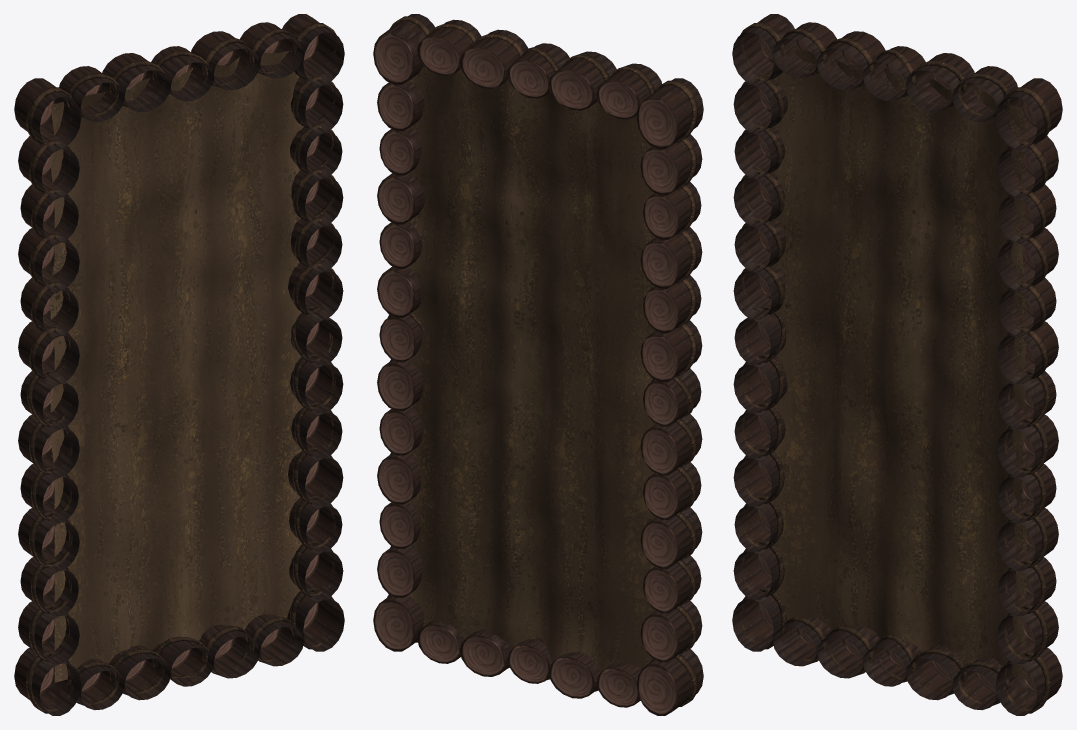
Rendered from ASSETMODEL_CHINAMPA.fbx.
The picture shows the model from 3 angles, left to right: view 1: azimuth 30°, elevation 25°; view 2: azimuth 150°, elevation 25°; view 3: azimuth 330°, elevation 25°; orthographic projection.
Visible parts, largest first — view 1: Circle.002; view 2: Circle.002; view 3: Circle.002.
Boxes of the visible parts, bbox=[...] form: Circle.002: bbox=[14, 14, 344, 715]; Circle.002: bbox=[373, 14, 703, 715]; Circle.002: bbox=[732, 14, 1062, 715].
Bounding box in the file's own units: 728 × 1424 × 105.
Materials: 1 (1 with a texture image).
